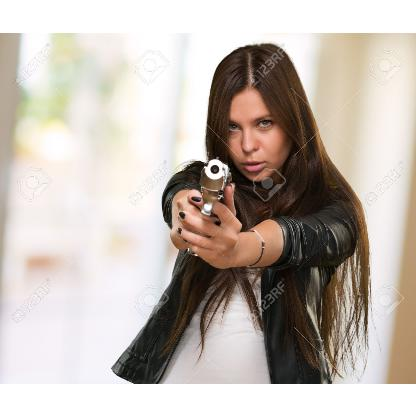gun: (194, 155, 236, 253)
